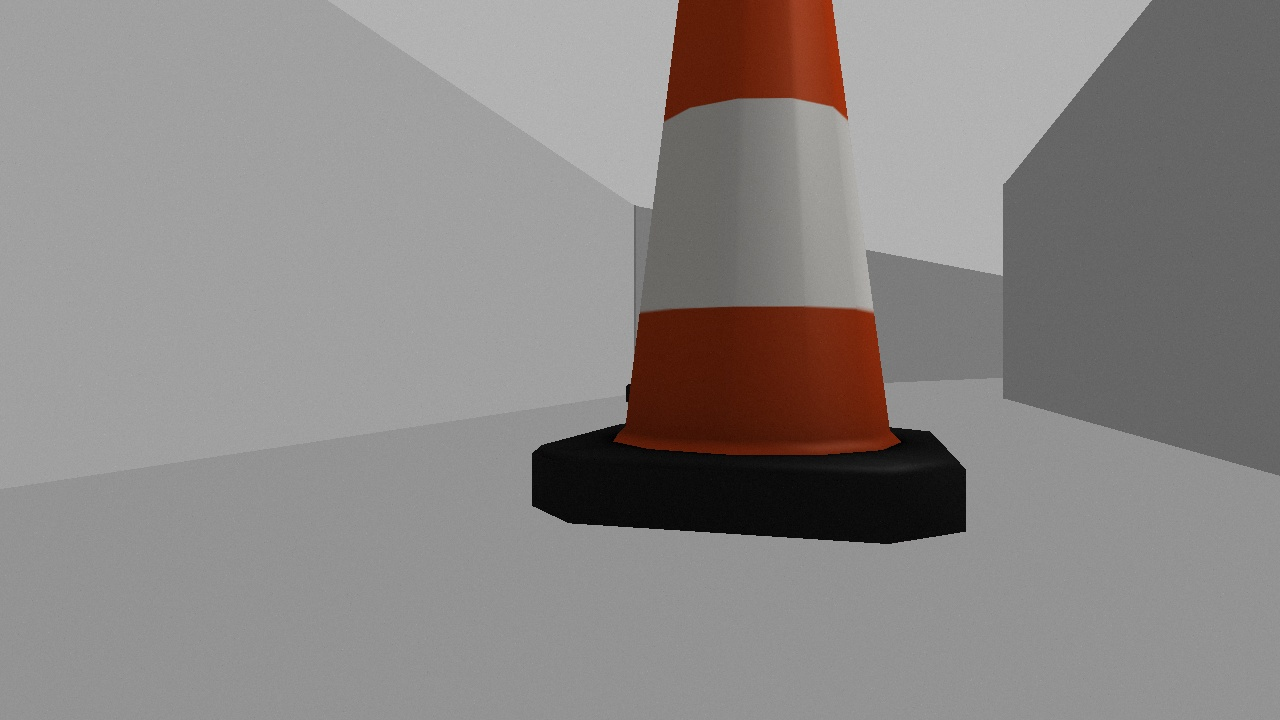barricade: (528, 1, 971, 541)
